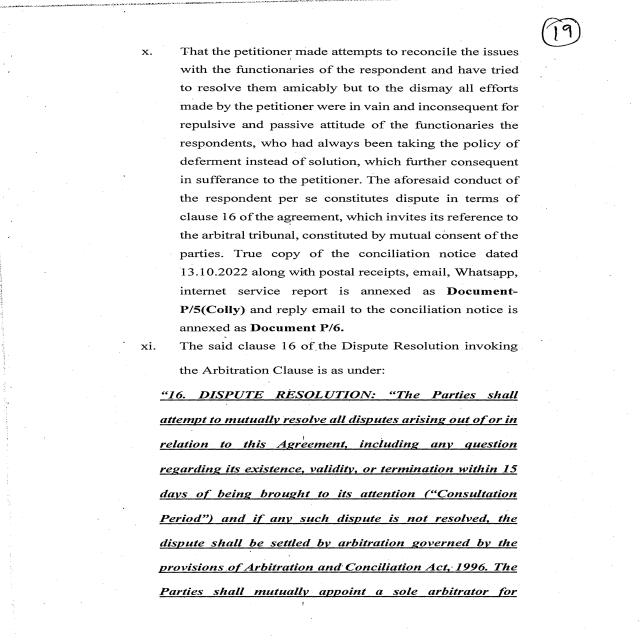page-number: (530, 6, 640, 146)
